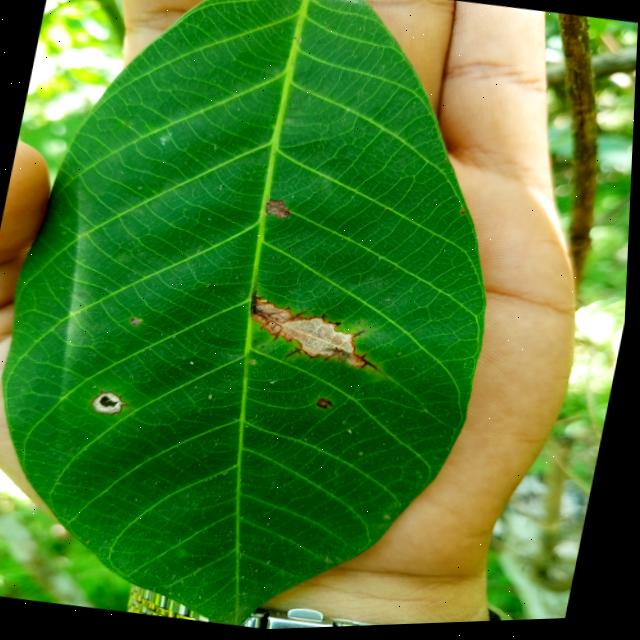Corynespora: (240, 287, 401, 381)
Leaf-Blight: (281, 315, 364, 365)
